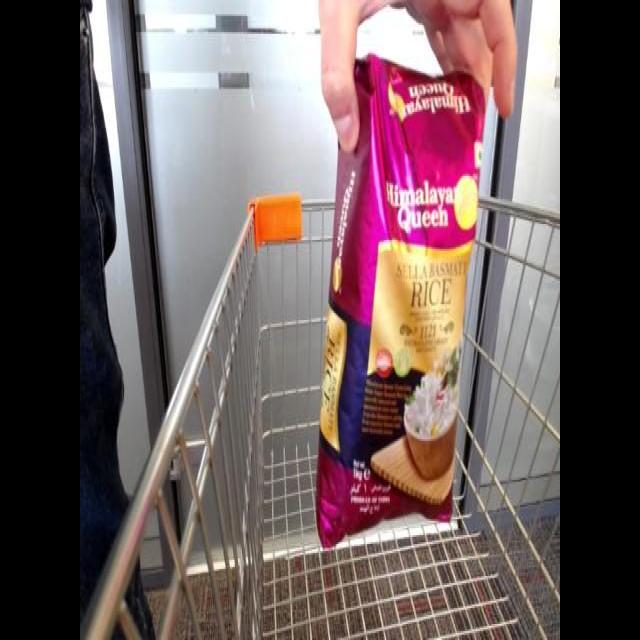Basmati Rice: (310, 55, 490, 549)
